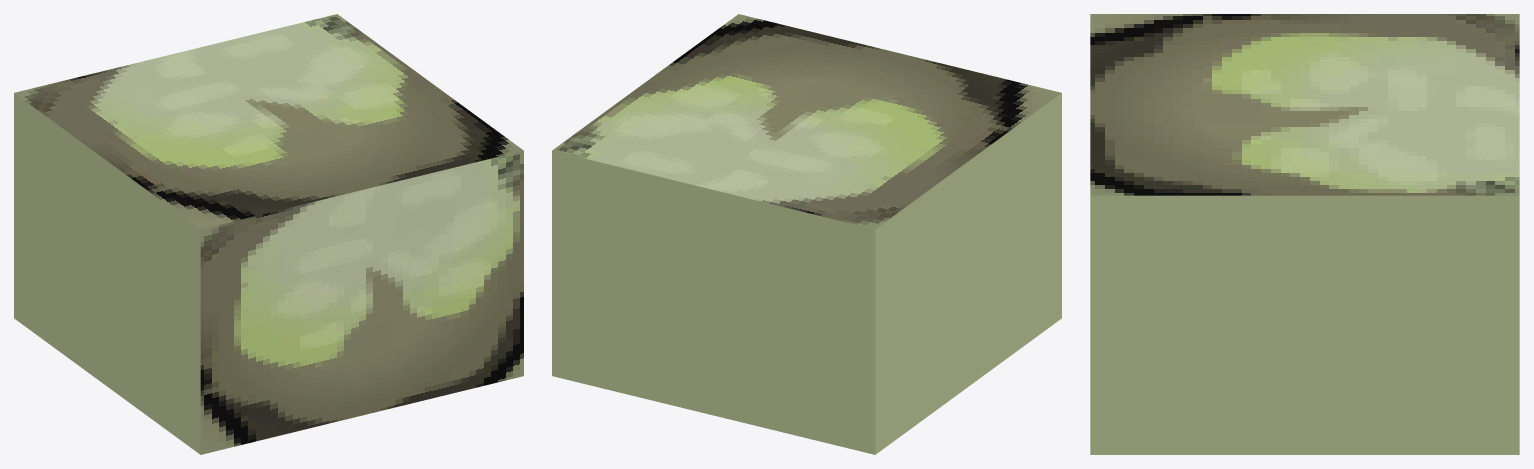
File: Building_EggSac.glb
3 views of the same model, side by side, from view 1: azimuth 30°, elevation 25°; view 2: azimuth 150°, elevation 25°; view 3: azimuth 270°, elevation 25° (orthographic). The views are drawn at different scales.
Parts seen in each view (by area): view 1: EggSac; view 2: EggSac; view 3: EggSac.
Boxes of the visible parts, left/top/right/bottom form: EggSac: left=14, top=14, right=523, bottom=454; EggSac: left=552, top=14, right=1061, bottom=454; EggSac: left=1090, top=14, right=1519, bottom=454.
Bounding box in the file's own units: 0.9 × 0.6 × 0.9.
Materials: 1 (1 with a texture image).
